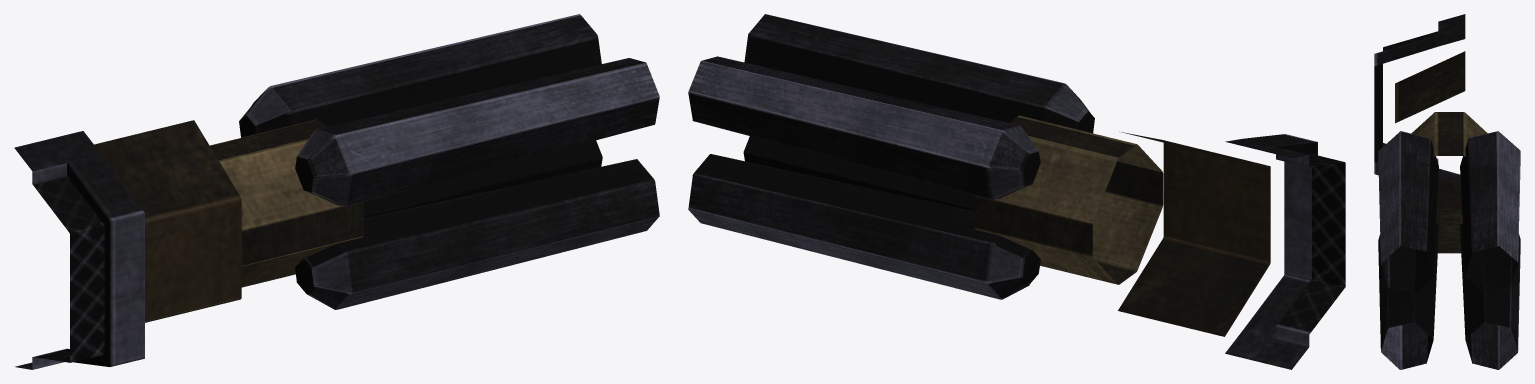
Rendered from v_nail2_6.obj.
The picture shows the model from 3 angles, left to right: view 1: azimuth 30°, elevation 25°; view 2: azimuth 150°, elevation 25°; view 3: azimuth 270°, elevation 25°; orthographic projection. The views are drawn at different scales.
Bounding box in the file's own units: 30.2 × 10.75 × 8.82.
Materials: 1 (1 with a texture image).
